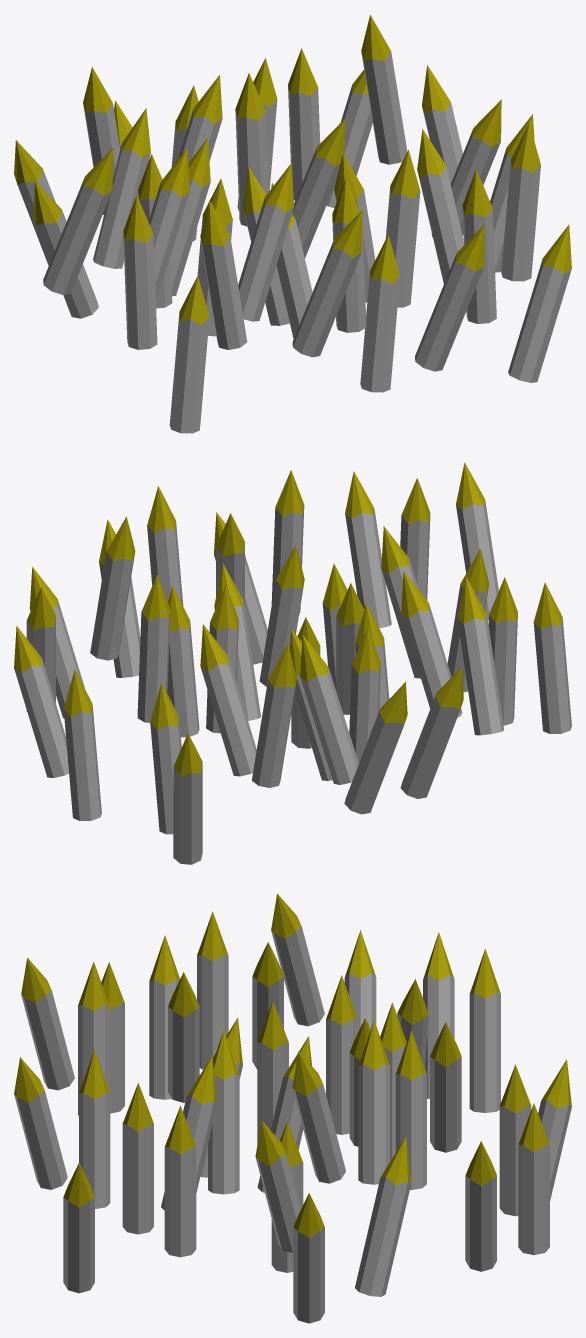
The model's file is Spikes.fbx.
The picture shows the model from 3 angles, top to bottom: view 1: azimuth 30°, elevation 25°; view 2: azimuth 150°, elevation 25°; view 3: azimuth 270°, elevation 25°; orthographic projection. The views are drawn at different scales.
Parts seen in each view (by area): view 1: Spikes; view 2: Spikes; view 3: Spikes.
Boxes of the visible parts, x1,y1,x2,y2 form: Spikes: (14,15,571,433); Spikes: (14,462,571,864); Spikes: (14,894,571,1323).
Size of the model in its own units: 557 by 289 by 546.
